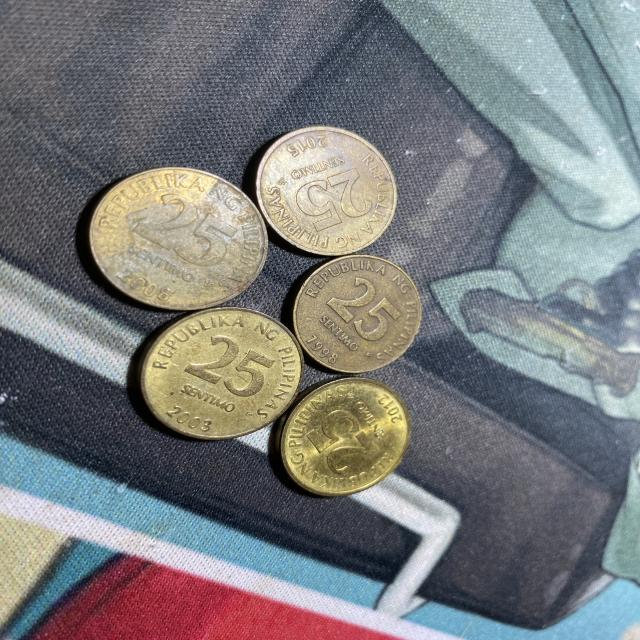25Cent_Old_Front: (137, 196, 240, 268), (183, 334, 274, 395), (304, 409, 384, 475), (326, 278, 400, 341), (294, 167, 369, 229)
